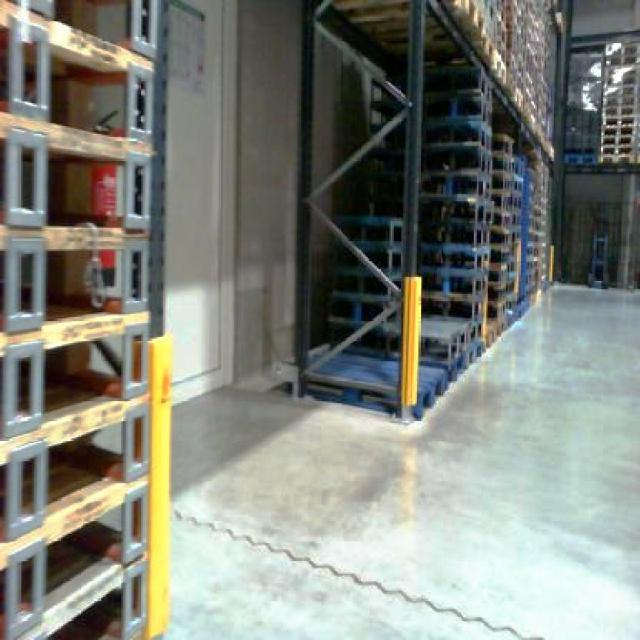ground: (0, 280, 638, 638)
pallet: (292, 0, 558, 422)
